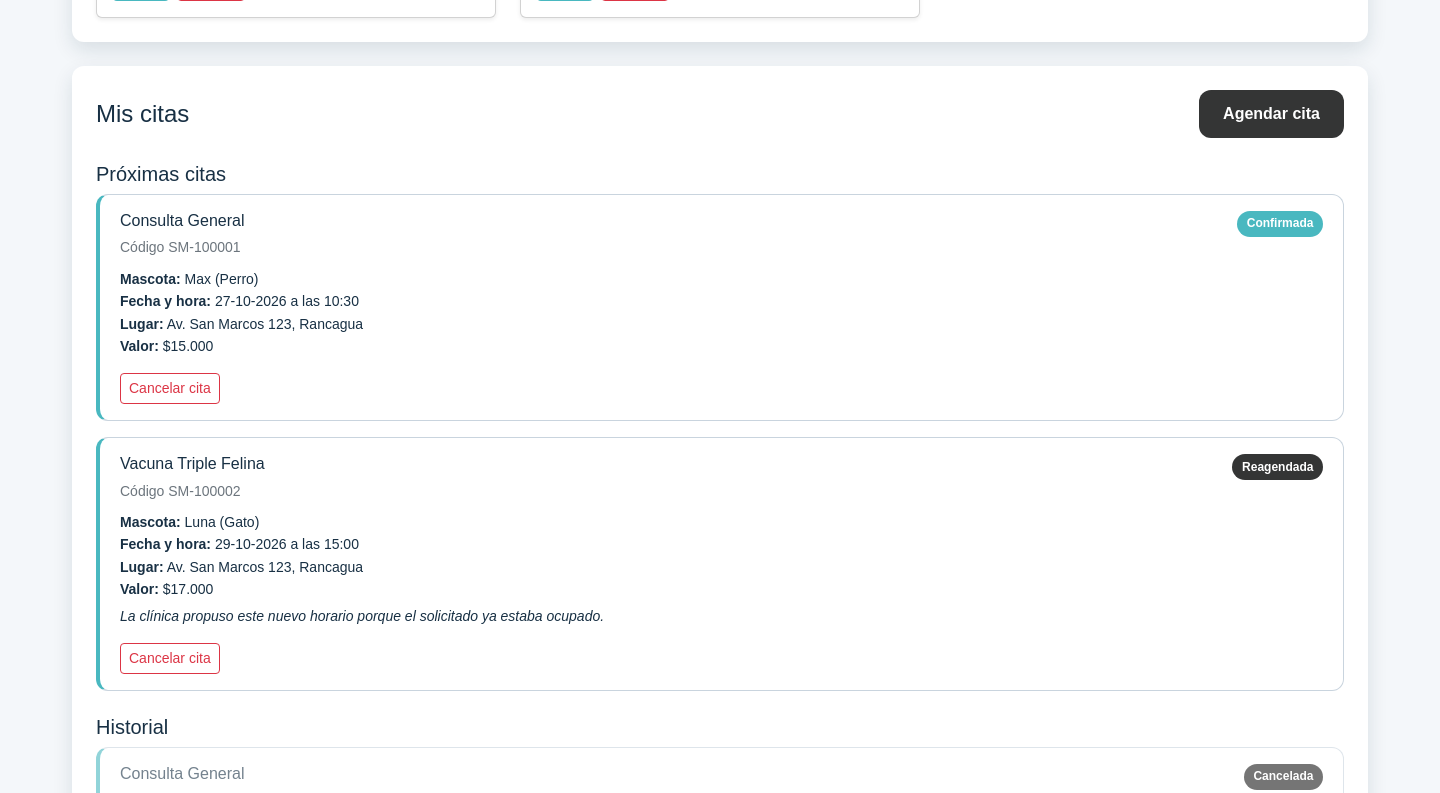
Test: MiPerfil › cancela una cita y la guarda como Cancelada
The image size is (1440, 793).
(page scrolled)
Click the button "Cancelar cita" below "27-10-2026": (170, 389) [120,373,220,404]
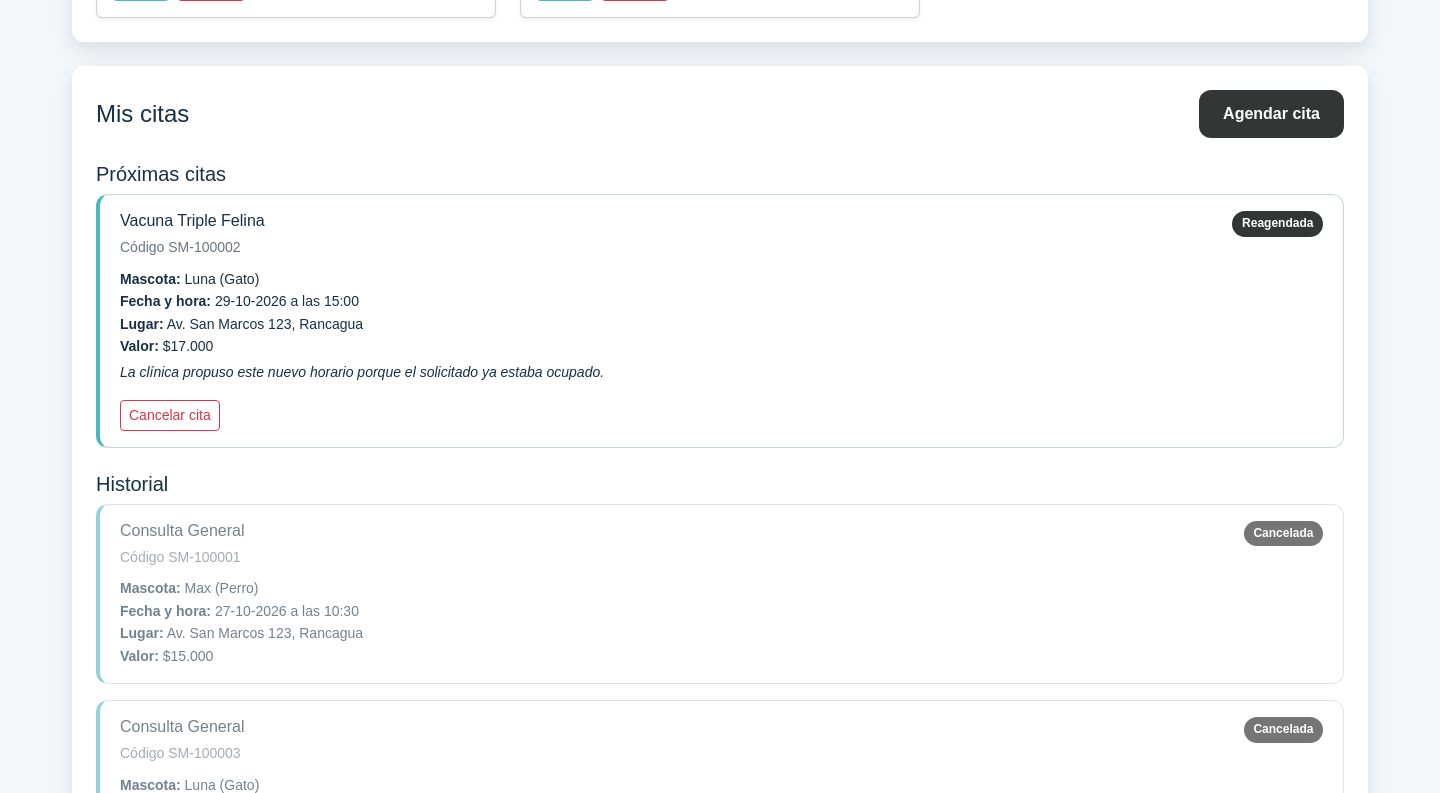
Now the 1st text "Cancelada" is shown, box [1244,521,1323,546]
